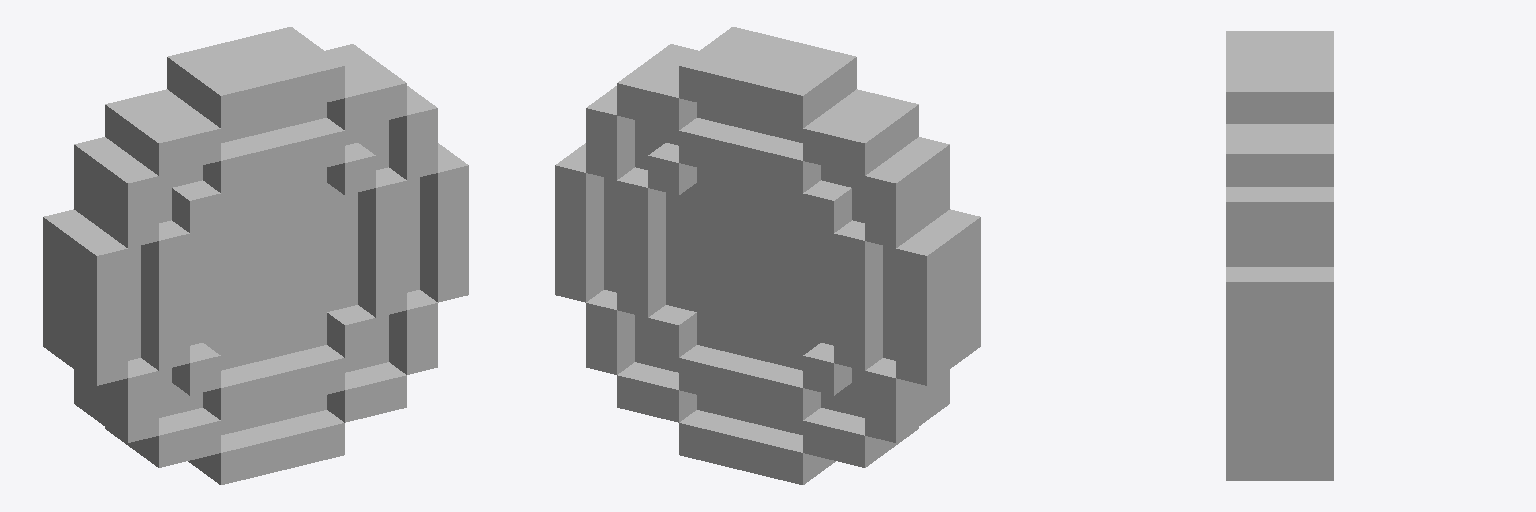
Rendered from Coin_Big_1.obj.
3 renders of one model, left to right at view 1: azimuth 30°, elevation 25°; view 2: azimuth 150°, elevation 25°; view 3: azimuth 270°, elevation 25°, orthographic.
Bounding box in the file's own units: 0.3 × 0.3 × 0.075.